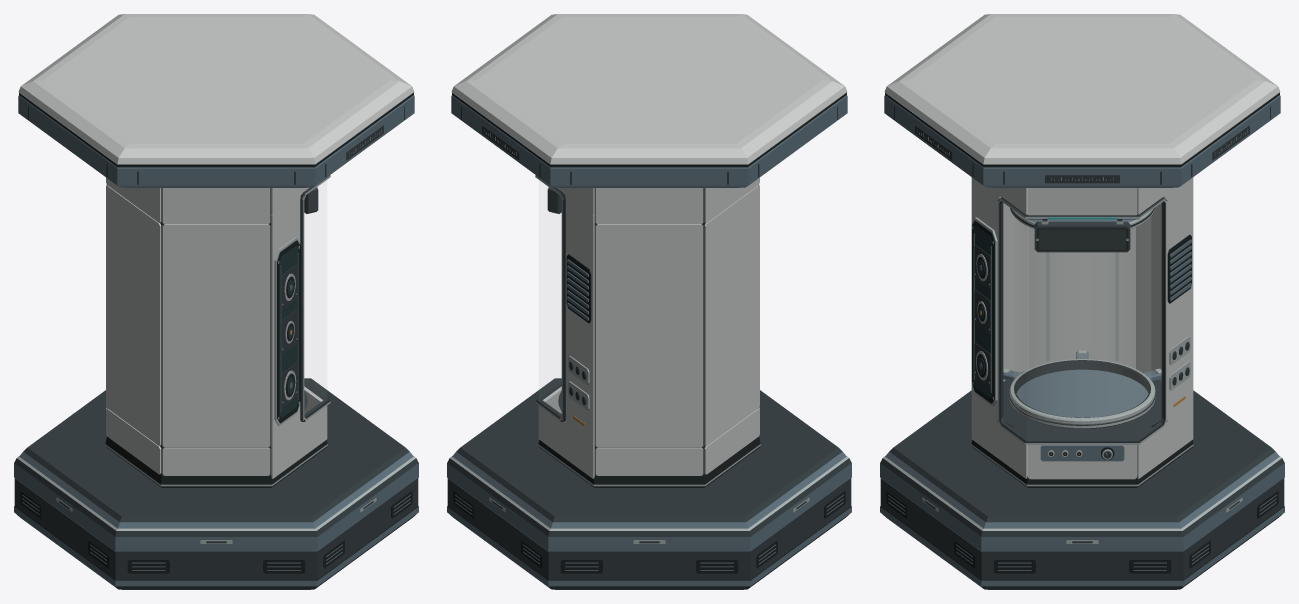
Rendered from SM_TC_ParticleStoragePillar.fbx.
The picture shows the model from 3 angles, left to right: view 1: azimuth 30°, elevation 25°; view 2: azimuth 150°, elevation 25°; view 3: azimuth 270°, elevation 25°; orthographic projection.
Visible parts, largest first — view 1: SM_TC_ParticleStoragePillar; view 2: SM_TC_ParticleStoragePillar; view 3: SM_TC_ParticleStoragePillar.
Part boxes in pixels (bbox=[...]): SM_TC_ParticleStoragePillar: bbox=[14, 14, 418, 589]; SM_TC_ParticleStoragePillar: bbox=[447, 14, 851, 589]; SM_TC_ParticleStoragePillar: bbox=[880, 14, 1284, 589].
Size of the model in its own units: 425 by 490 by 590.
